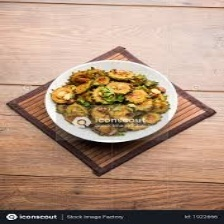sabzi: (47, 62, 173, 140)
